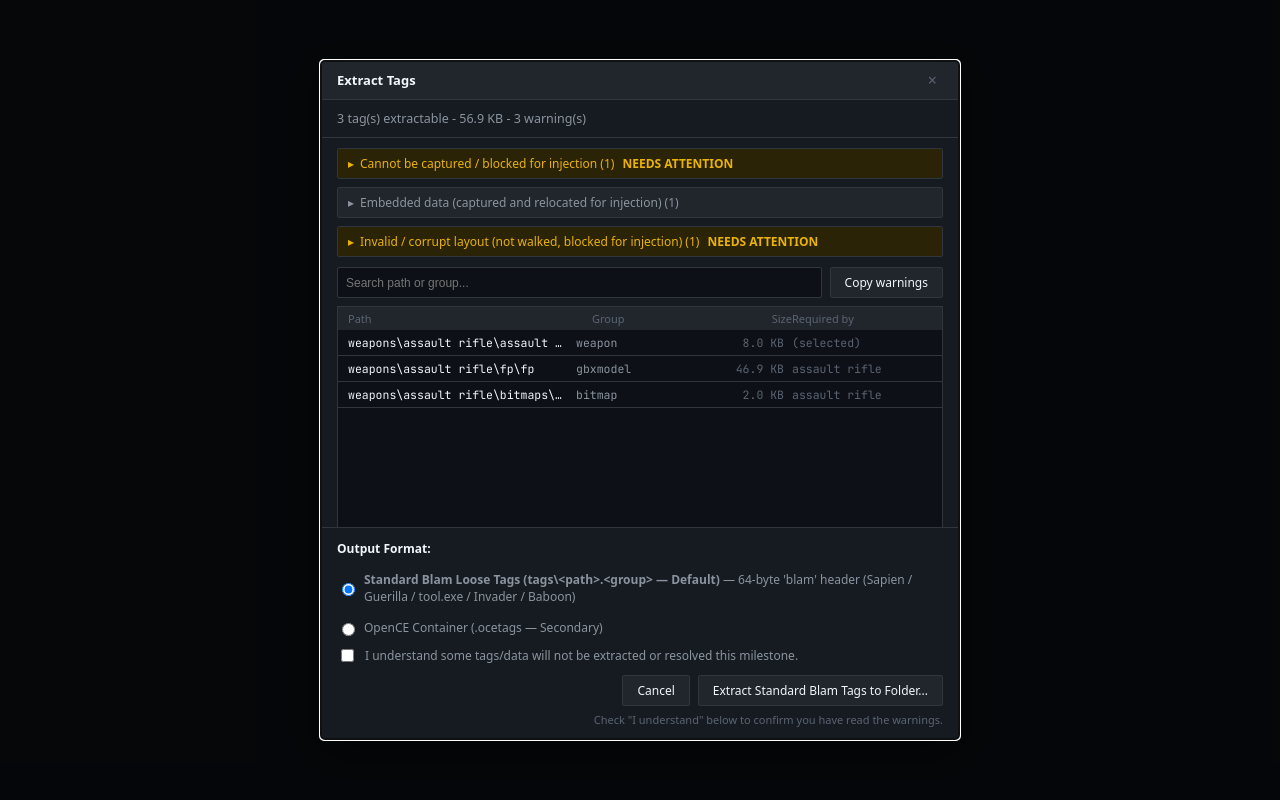
Test: DependencyDialog › uncaptured/embedded/invalid-layout warnings each get their own blocking group, and gate confirm on the checkbox
Step 1. Click the 2nd button → click(640, 164), box [338, 149, 942, 178]
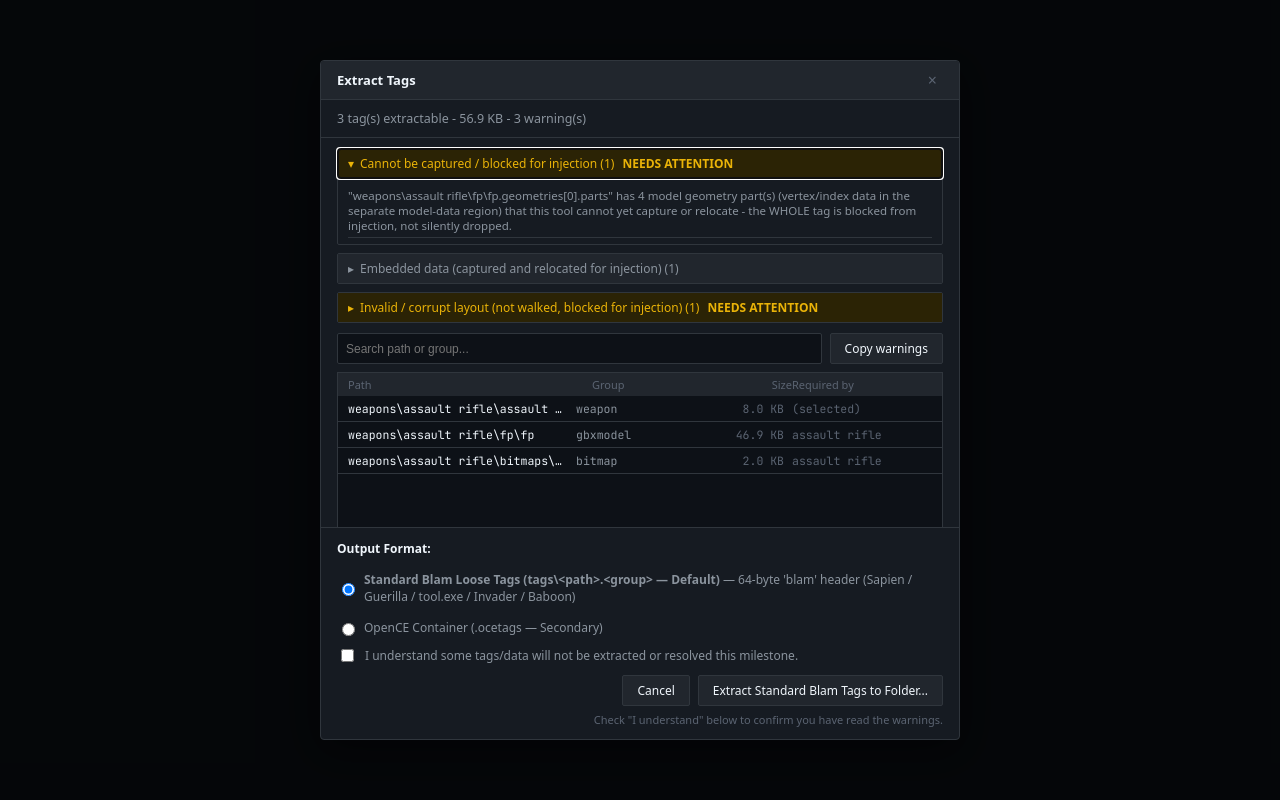
Step 2. Click the button "▸Embedded data (captured and relocated for injection) (1)" → click(640, 268), box [338, 254, 942, 283]
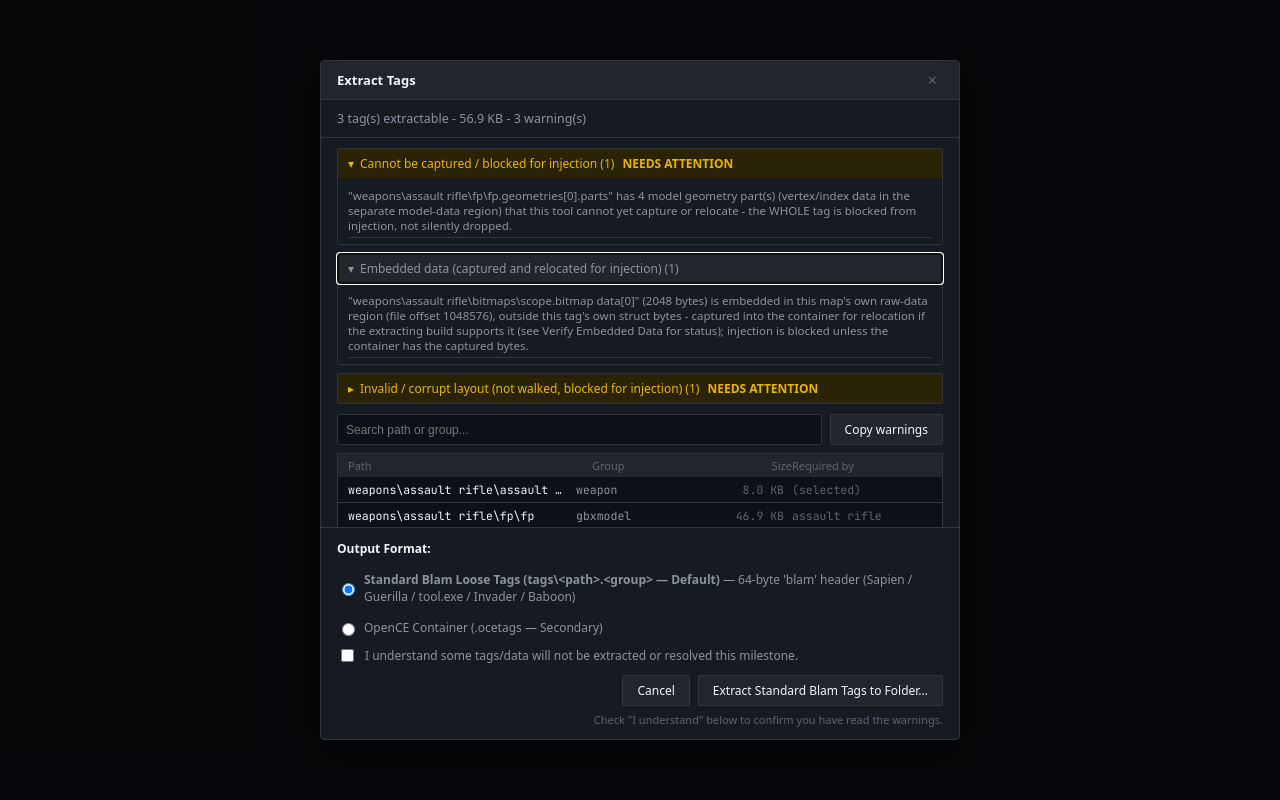
Step 3. Click the button with test id "warning-group-toggle-invalid-corrupt-layout-not-walked-blocked-for-injection" → click(640, 388), box [338, 374, 942, 403]
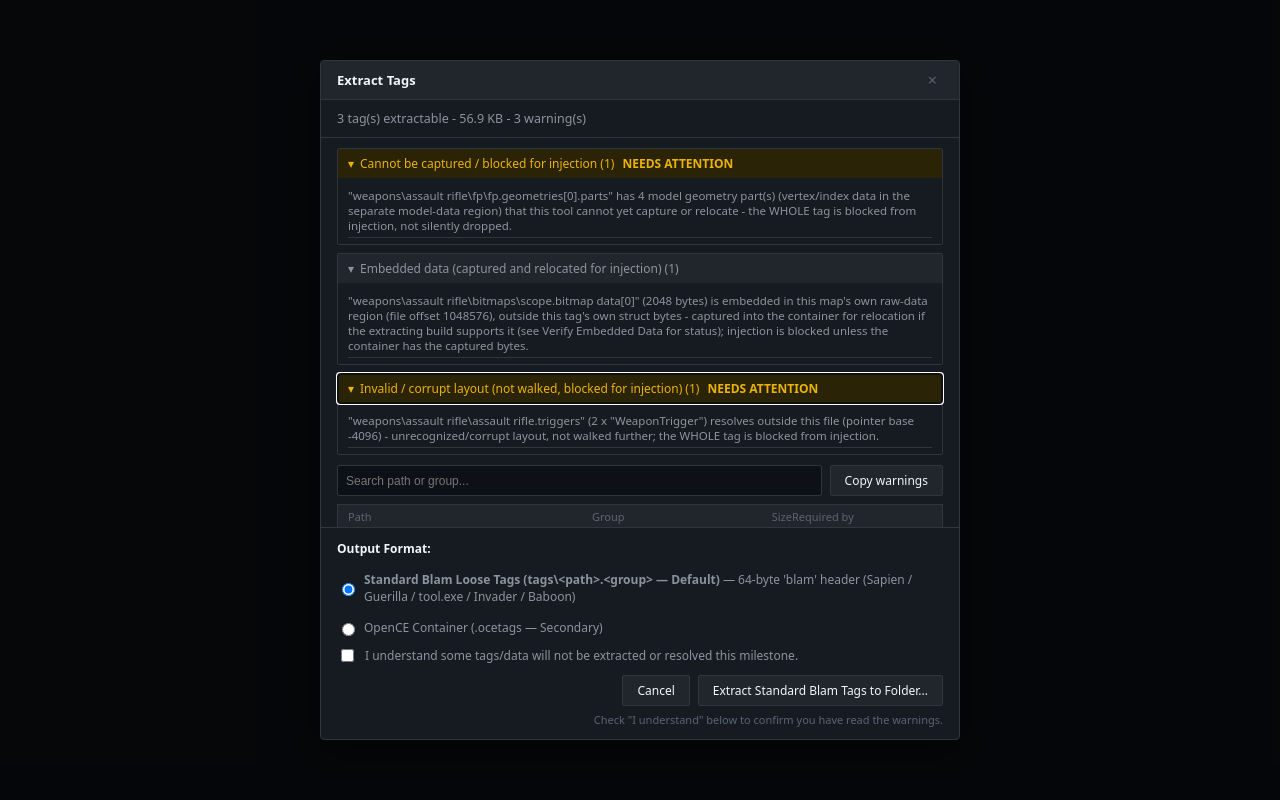
Expected: the button with test id "dependency-confirm-button" is disabled, [698, 675, 943, 706]
Step 4. Click the checkbox with test id "dependency-understand-checkbox" → click(348, 656), box [341, 649, 354, 662]
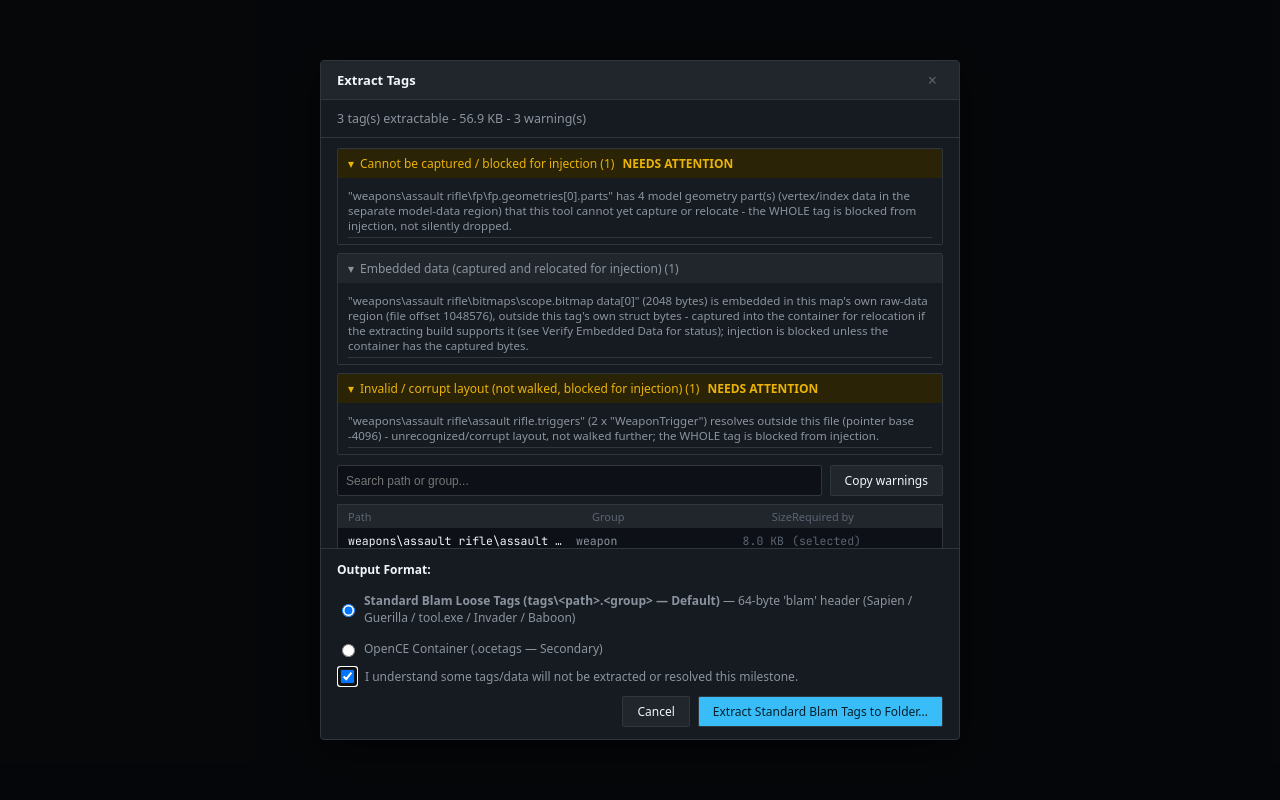
Now the button with test id "dependency-confirm-button" is enabled, box [698, 696, 943, 727]
